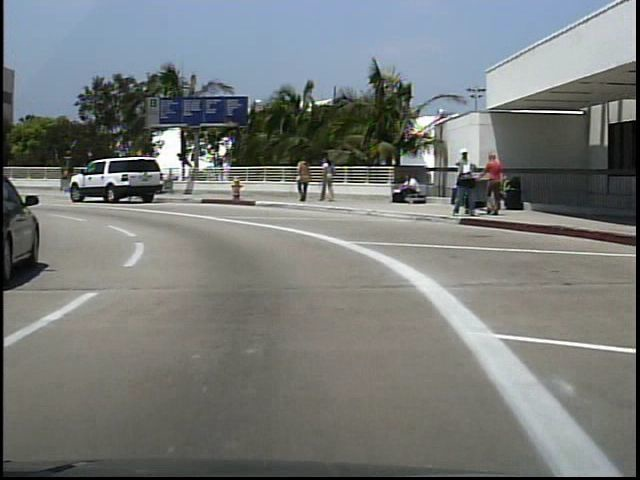person: (456, 145, 480, 222), (483, 152, 505, 218), (295, 154, 313, 206), (320, 157, 337, 208), (397, 175, 421, 206)
